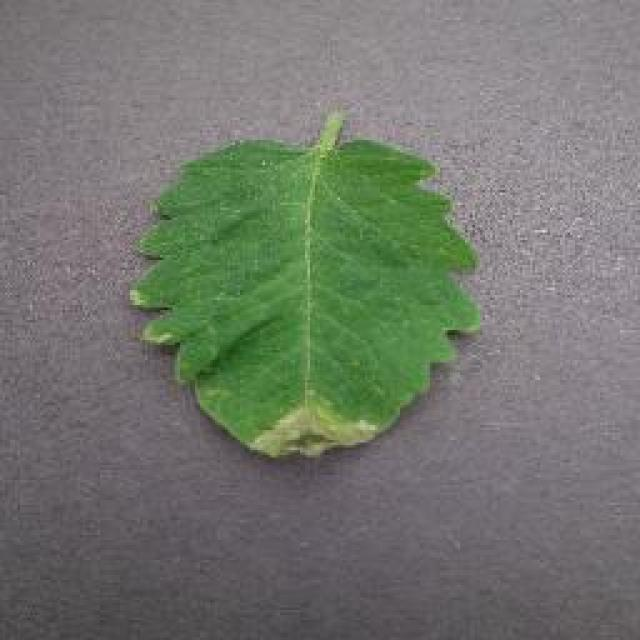Tomato_Late_Blight: (232, 390, 390, 475)
